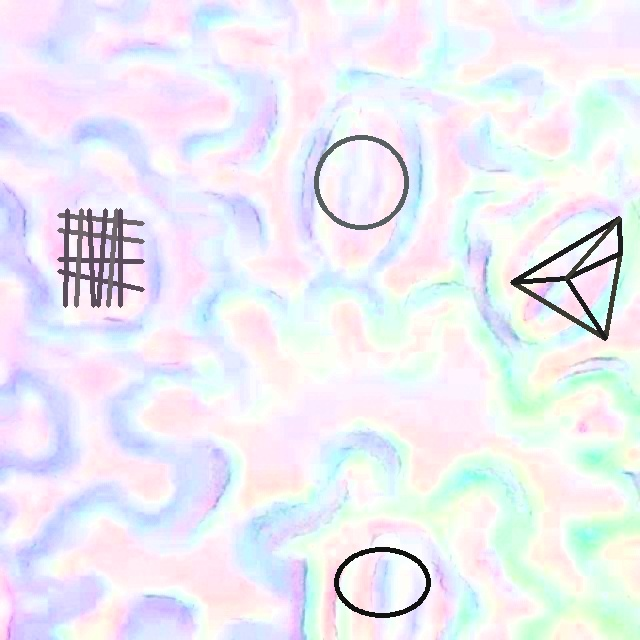close: (511, 216, 621, 339)
open: (312, 134, 410, 229), (57, 208, 144, 307), (333, 547, 431, 617)
